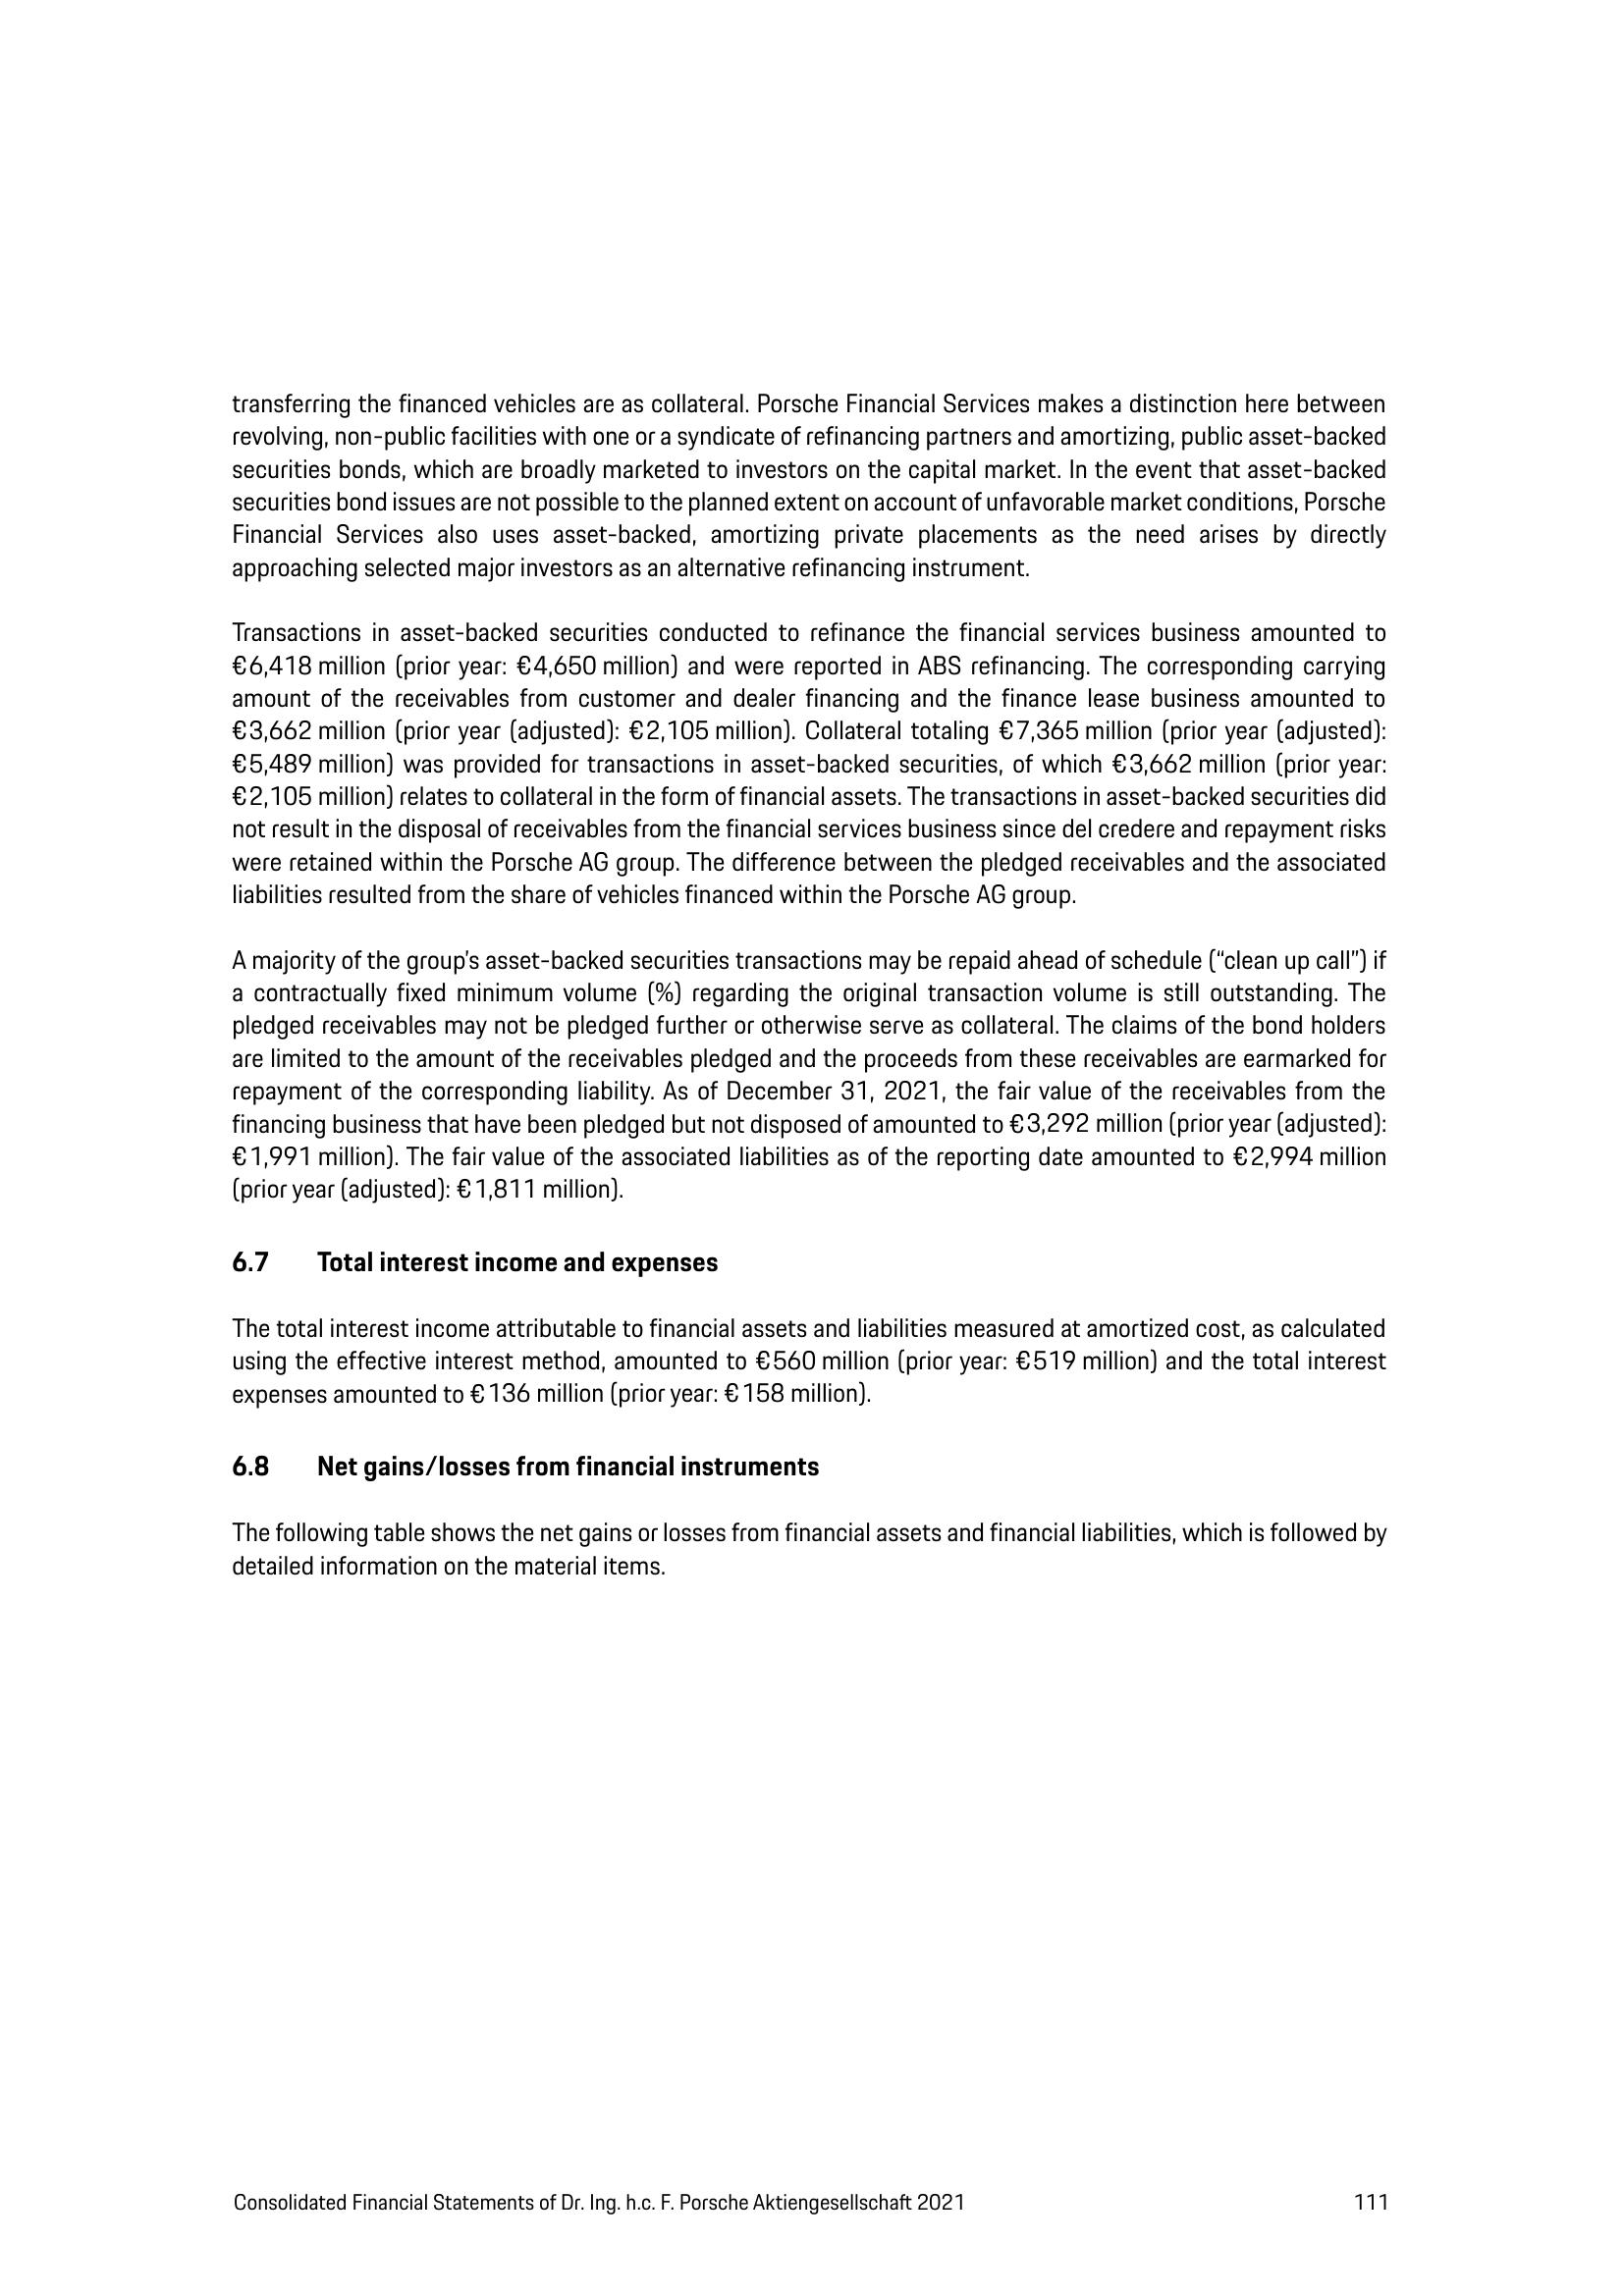Footer: (0, 2166, 1624, 2296)
Header: (0, 0, 1624, 249)
